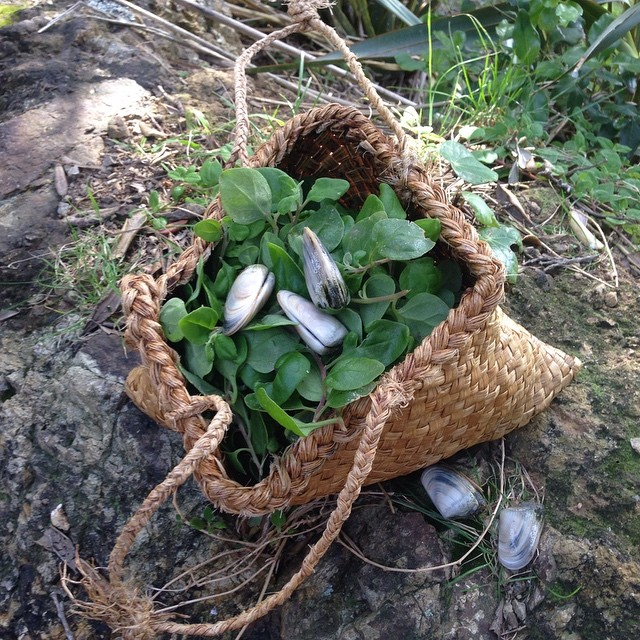tuatua: (276, 287, 348, 360), (298, 223, 348, 315), (220, 260, 276, 339), (418, 461, 488, 522), (492, 499, 545, 573)
